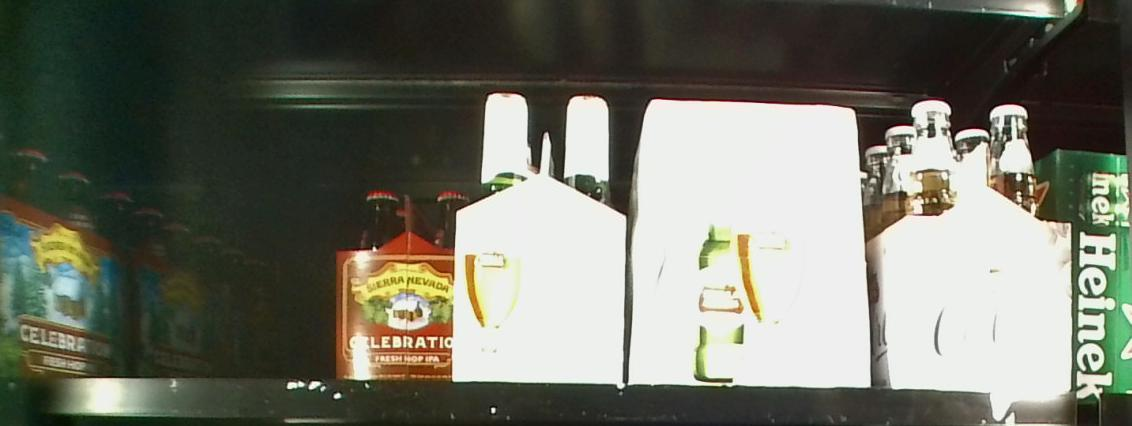bottle: (625, 92, 865, 375), (894, 96, 1069, 392), (456, 85, 624, 385), (333, 185, 454, 379)
